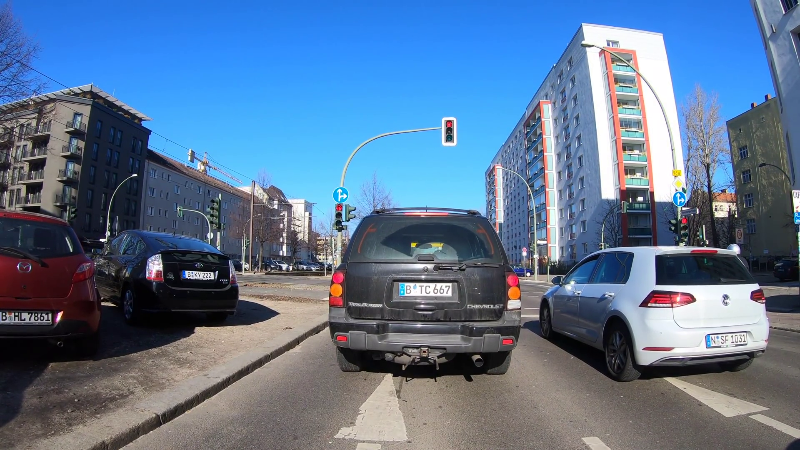Plate: (399, 280, 452, 296), (1, 310, 53, 324), (704, 332, 748, 348), (181, 270, 215, 280)
